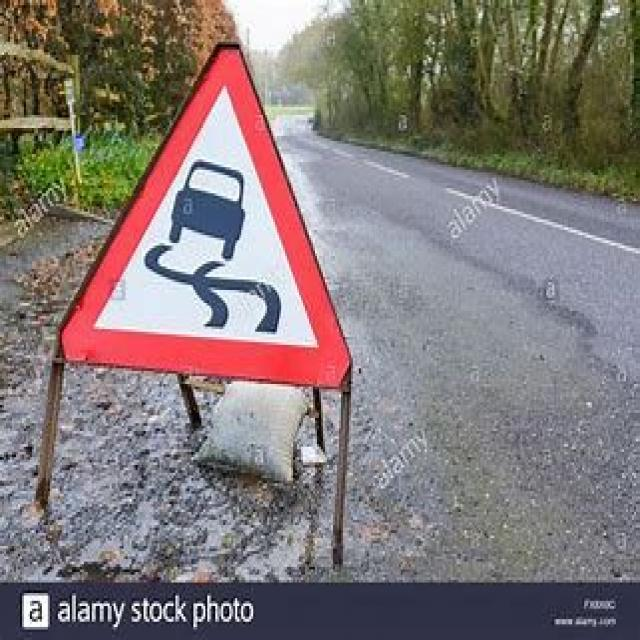SLIPPERY_ROAD: (58, 44, 347, 387)
